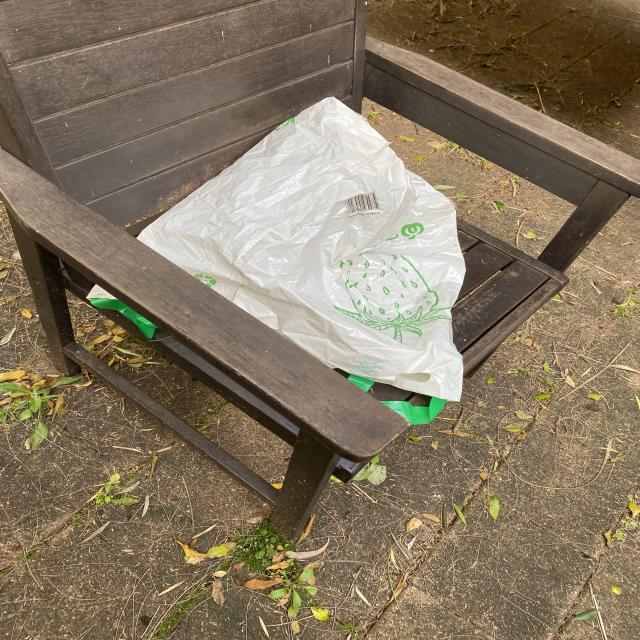bag: (80, 97, 468, 425)
